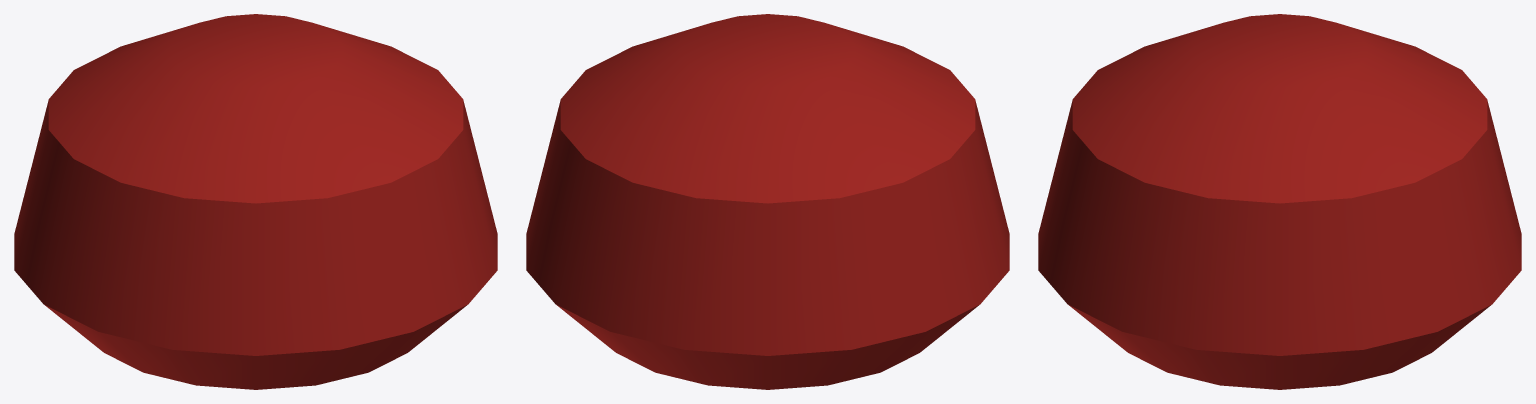
Rendered from furniture.seat.bean_bag.glb.
3 renders of one model, left to right at view 1: azimuth 30°, elevation 25°; view 2: azimuth 150°, elevation 25°; view 3: azimuth 270°, elevation 25°, orthographic.
Parts seen in each view (by area): view 1: main__fabric_red; view 2: main__fabric_red; view 3: main__fabric_red.
Boxes of the visible parts, box(x1,y1,x2,y2) form: main__fabric_red: box(14, 14, 497, 389); main__fabric_red: box(526, 14, 1009, 389); main__fabric_red: box(1038, 14, 1521, 389).
Size of the model in its own units: 0.84 by 0.5 by 0.8272.
